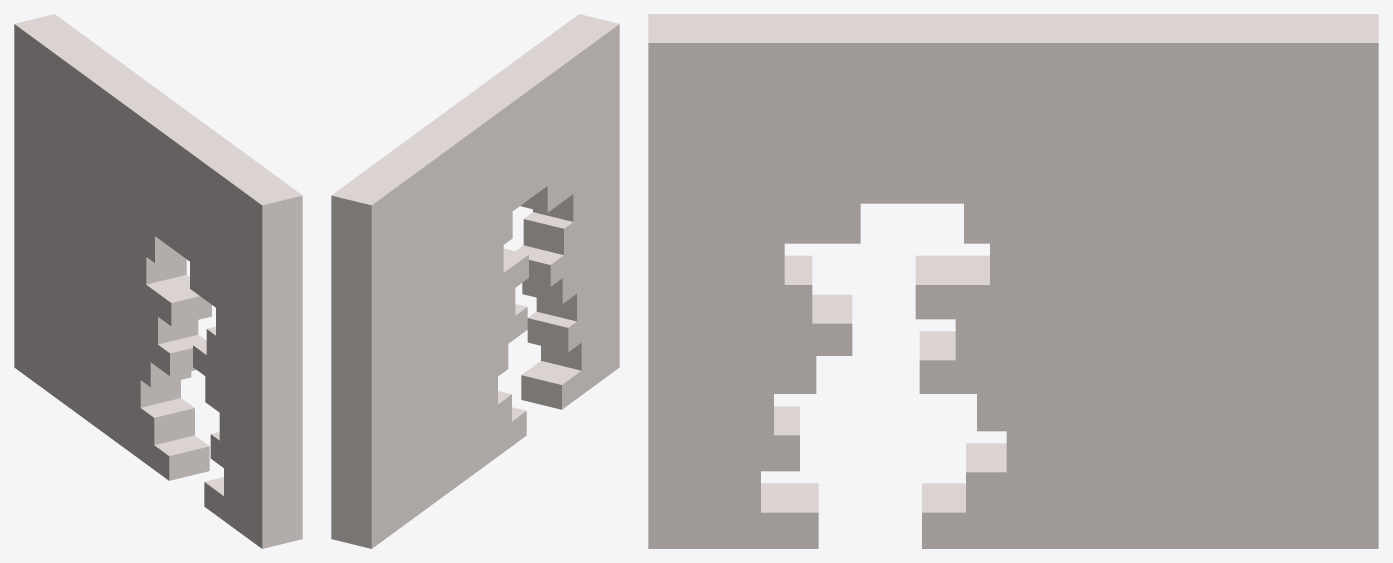
Rendered from gap02.fbx.
The picture shows the model from 3 angles, left to right: view 1: azimuth 30°, elevation 25°; view 2: azimuth 150°, elevation 25°; view 3: azimuth 270°, elevation 25°; orthographic projection. The views are drawn at different scales.
Parts seen in each view (by area): view 1: Box017; view 2: Box017; view 3: Box017.
Part boxes in pixels (left/top/right/bottom): Box017: left=14, top=14, right=302, bottom=548; Box017: left=331, top=14, right=619, bottom=548; Box017: left=648, top=14, right=1378, bottom=548.
Bounding box in the file's own units: 33.24 × 269 × 352.
Materials: 1 (1 with a texture image).
